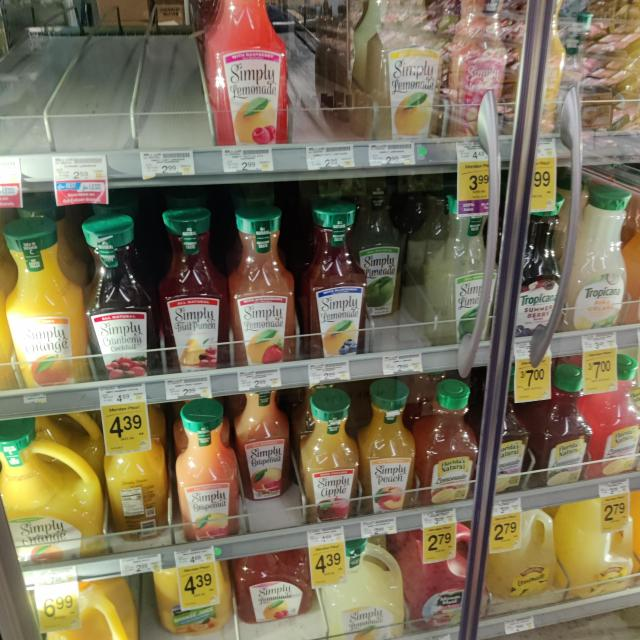Juice: (0, 422, 109, 574), (208, 0, 292, 162), (8, 222, 82, 399), (423, 194, 495, 359), (88, 211, 150, 397), (231, 209, 295, 378), (368, 0, 444, 139), (168, 196, 225, 380), (174, 401, 244, 550), (310, 203, 370, 371), (318, 541, 410, 640), (566, 190, 628, 335), (523, 364, 593, 486), (508, 196, 566, 342), (413, 378, 480, 504), (360, 379, 419, 516), (553, 500, 636, 596), (579, 354, 640, 482), (486, 508, 564, 600), (411, 524, 475, 632), (234, 389, 293, 501), (308, 394, 359, 522), (107, 439, 168, 541), (235, 550, 313, 628), (159, 558, 228, 629)
